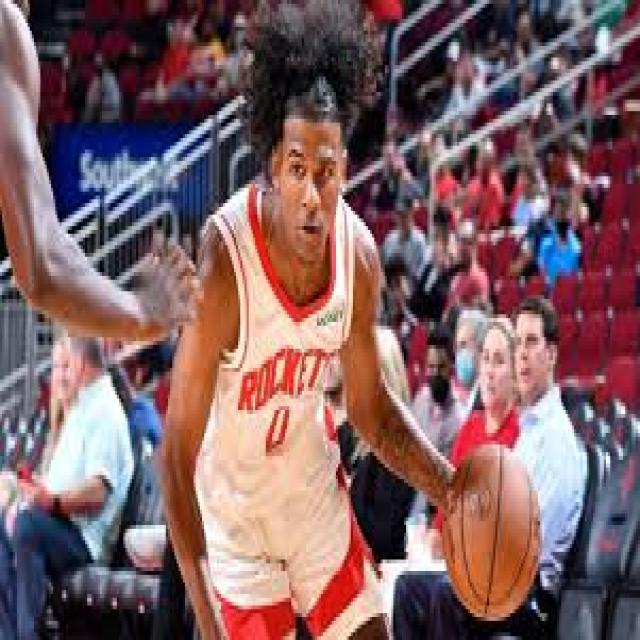rim: (444, 444, 540, 621)
